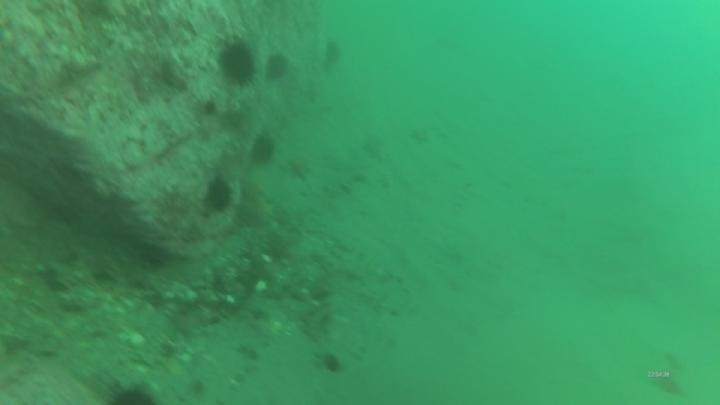echinus: (215, 38, 259, 88), (102, 379, 159, 405), (201, 174, 236, 215), (247, 131, 279, 168), (263, 50, 292, 84), (319, 37, 345, 73)
starfish: (284, 154, 314, 183)
